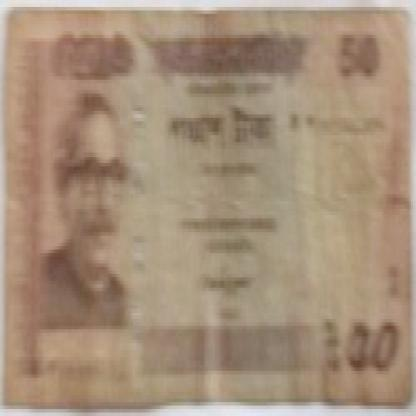Fifty taka: (348, 309, 404, 398), (52, 31, 103, 87)
